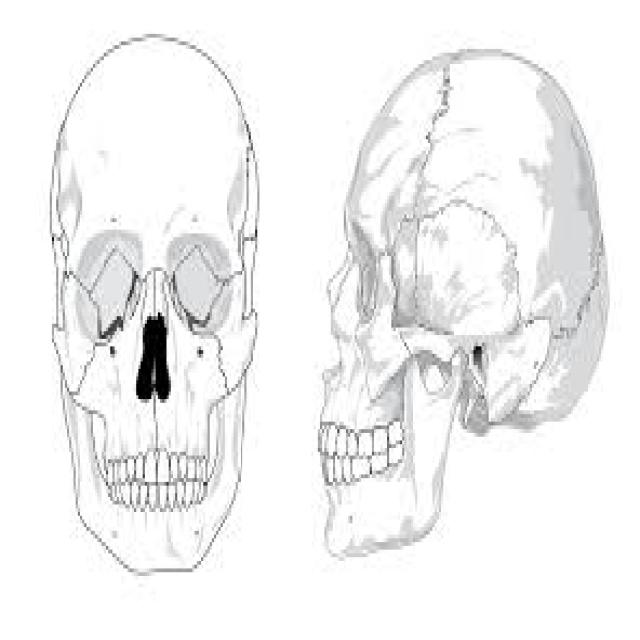skull: (310, 42, 614, 565)
